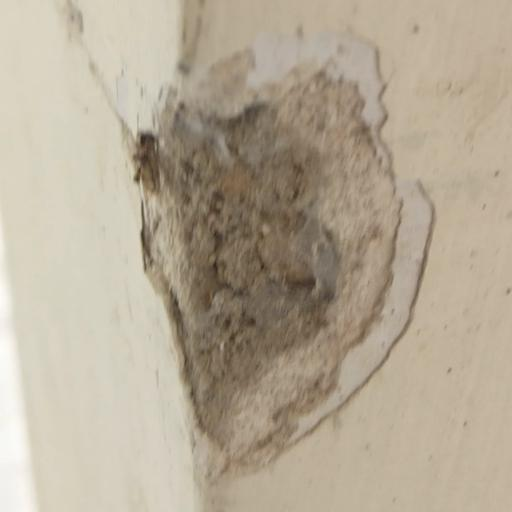spalling: (112, 25, 451, 494)
